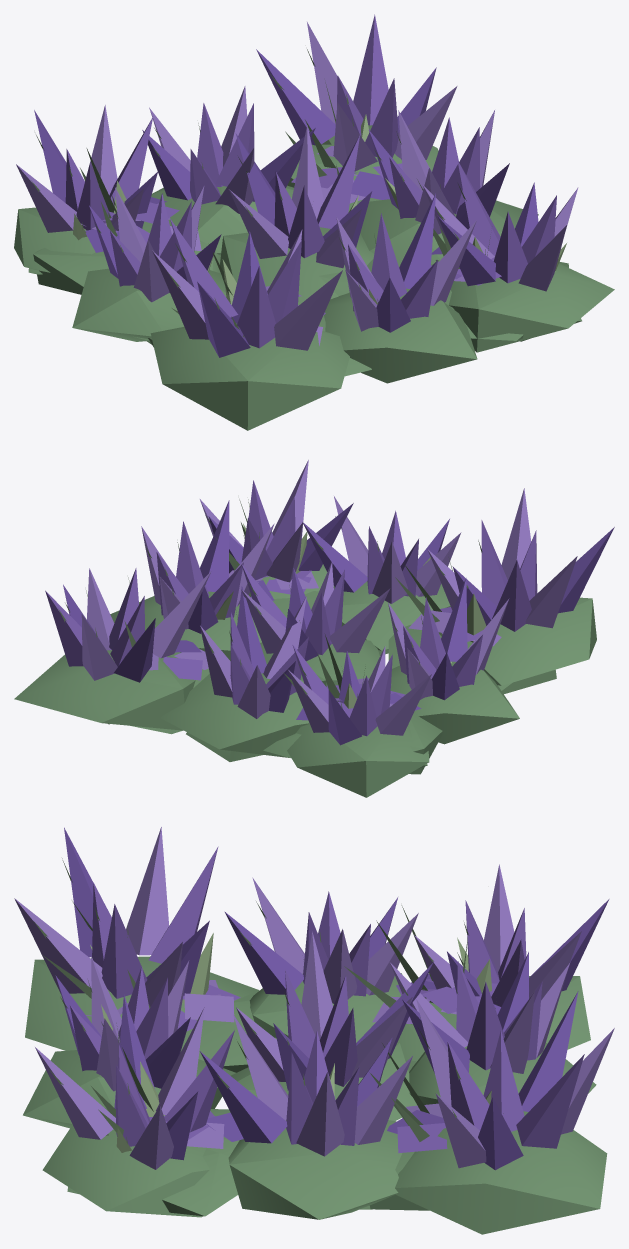
The model's file is lavender.glb.
3 renders of one model, top to bottom at view 1: azimuth 30°, elevation 25°; view 2: azimuth 150°, elevation 25°; view 3: azimuth 270°, elevation 25°, orthographic. The views are drawn at different scales.
Parts seen in each view (by area): view 1: crop-lavender-3, crop-lavender-3-far, crop-lavender-2-far, crop-lavender-2; view 2: crop-lavender-3, crop-lavender-3-far, crop-lavender-2-far, crop-lavender-2; view 3: crop-lavender-3, crop-lavender-3-far, crop-lavender-2-far, crop-lavender-2.
Boxes of the visible parts, x1,y1,x2,y2 form: crop-lavender-3: [14, 14, 614, 430]; crop-lavender-3-far: [80, 82, 501, 345]; crop-lavender-2-far: [33, 114, 568, 376]; crop-lavender-2: [28, 178, 581, 341]; crop-lavender-3: [14, 460, 614, 797]; crop-lavender-3-far: [124, 499, 501, 720]; crop-lavender-2-far: [130, 532, 556, 774]; crop-lavender-2: [108, 523, 430, 768]; crop-lavender-3: [14, 827, 614, 1234]; crop-lavender-3-far: [43, 901, 500, 1153]; crop-lavender-2-far: [140, 933, 491, 1216]; crop-lavender-2: [67, 937, 468, 1209].
Size of the model in its own units: 1.84 by 0.5797 by 1.83.
